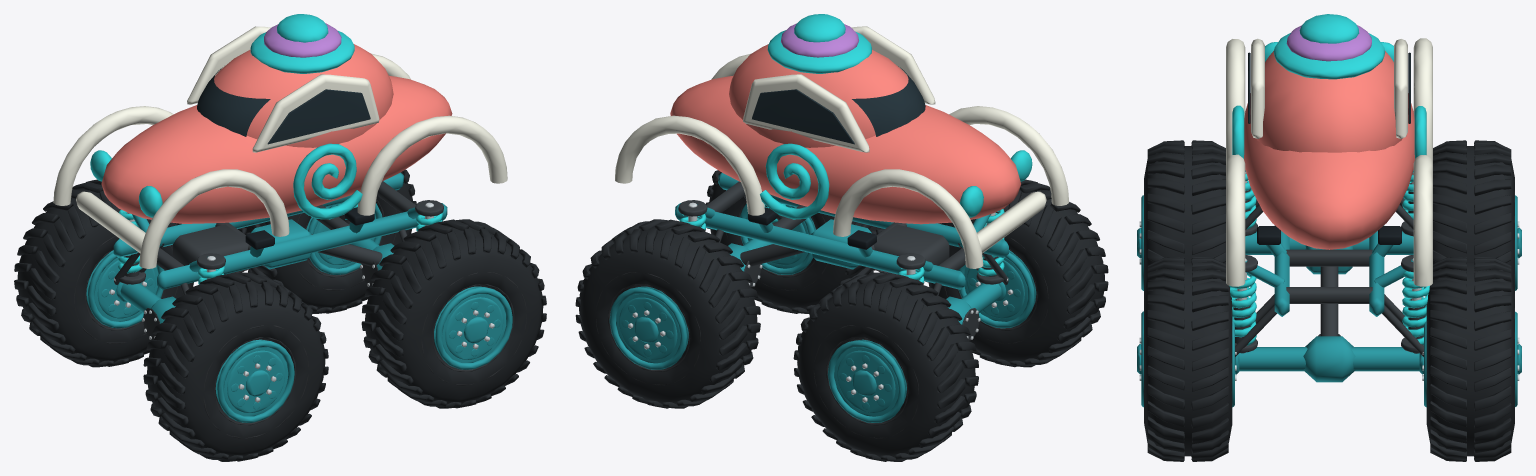
The model's file is CandyCrush.fbx.
The picture shows the model from 3 angles, left to right: view 1: azimuth 30°, elevation 25°; view 2: azimuth 150°, elevation 25°; view 3: azimuth 270°, elevation 25°; orthographic projection. The views are drawn at different scales.
Parts seen in each view (by area): view 1: CandyCrush_LOD0_sprung_body_Geometry, CandyCrush_LOD0_FL_Spin_Geometry, CandyCrush_LOD0_RL_Spin_Geometry, CandyCrush_LOD0_FR_Spin_Geometry, CandyCrush_LOD0_RR_Spin_Geometry, CandyCrush_LOD0_FRONT_axle_Geometry, CandyCrush_LOD0_Root_Geometry, CandyCrush_LOD0_REAR_axle_Geometry, CandyCrush_LOD0_FRONT_shock_-1_Geometry, CandyCrush_LOD0_REAR_shock_-1_Geometry, CandyCrush_LOD0_FRONT_shock_1_Geometry; view 2: CandyCrush_LOD0_sprung_body_Geometry, CandyCrush_LOD0_RR_Spin_Geometry, CandyCrush_LOD0_FR_Spin_Geometry, CandyCrush_LOD0_FL_Spin_Geometry, CandyCrush_LOD0_RL_Spin_Geometry, CandyCrush_LOD0_FRONT_axle_Geometry, CandyCrush_LOD0_Root_Geometry, CandyCrush_LOD0_REAR_axle_Geometry, CandyCrush_LOD0_FRONT_shock_-1_Geometry, CandyCrush_LOD0_FRONT_shock_1_Geometry, CandyCrush_LOD0_REAR_shock_1_Geometry; view 3: CandyCrush_LOD0_sprung_body_Geometry, CandyCrush_LOD0_RL_Spin_Geometry, CandyCrush_LOD0_RR_Spin_Geometry, CandyCrush_LOD0_FL_Spin_Geometry, CandyCrush_LOD0_FR_Spin_Geometry, CandyCrush_LOD0_REAR_axle_Geometry, CandyCrush_LOD0_Root_Geometry, CandyCrush_LOD0_REAR_shock_1_Geometry, CandyCrush_LOD0_REAR_shock_-1_Geometry, CandyCrush_LOD0_FRONT_axle_Geometry, CandyCrush_LOD0_FRONT_shock_-1_Geometry, CandyCrush_LOD0_FRONT_shock_1_Geometry.
Boxes of the visible parts, x1=… form: CandyCrush_LOD0_sprung_body_Geometry: x1=53, y1=14, x2=507, y2=289; CandyCrush_LOD0_FL_Spin_Geometry: x1=143, y1=272, x2=328, y2=461; CandyCrush_LOD0_RL_Spin_Geometry: x1=361, y1=219, x2=546, y2=408; CandyCrush_LOD0_FR_Spin_Geometry: x1=14, y1=179, x2=193, y2=367; CandyCrush_LOD0_RR_Spin_Geometry: x1=238, y1=169, x2=416, y2=313; CandyCrush_LOD0_FRONT_axle_Geometry: x1=120, y1=283, x2=175, y2=340; CandyCrush_LOD0_Root_Geometry: x1=114, y1=195, x2=407, y2=294; CandyCrush_LOD0_REAR_axle_Geometry: x1=350, y1=239, x2=394, y2=287; CandyCrush_LOD0_FRONT_shock_-1_Geometry: x1=197, y1=253, x2=225, y2=284; CandyCrush_LOD0_REAR_shock_-1_Geometry: x1=415, y1=200, x2=443, y2=231; CandyCrush_LOD0_FRONT_shock_1_Geometry: x1=118, y1=209, x2=145, y2=284; CandyCrush_LOD0_sprung_body_Geometry: x1=615, y1=14, x2=1069, y2=289; CandyCrush_LOD0_RR_Spin_Geometry: x1=575, y1=219, x2=760, y2=408; CandyCrush_LOD0_FR_Spin_Geometry: x1=793, y1=272, x2=978, y2=461; CandyCrush_LOD0_FL_Spin_Geometry: x1=925, y1=179, x2=1108, y2=367; CandyCrush_LOD0_RL_Spin_Geometry: x1=706, y1=170, x2=884, y2=313; CandyCrush_LOD0_FRONT_axle_Geometry: x1=946, y1=283, x2=1001, y2=340; CandyCrush_LOD0_Root_Geometry: x1=699, y1=195, x2=1008, y2=295; CandyCrush_LOD0_REAR_axle_Geometry: x1=728, y1=239, x2=772, y2=287; CandyCrush_LOD0_FRONT_shock_-1_Geometry: x1=976, y1=209, x2=1004, y2=284; CandyCrush_LOD0_FRONT_shock_1_Geometry: x1=896, y1=253, x2=925, y2=283; CandyCrush_LOD0_REAR_shock_1_Geometry: x1=678, y1=200, x2=707, y2=229; CandyCrush_LOD0_sprung_body_Geometry: x1=1226, y1=14, x2=1432, y2=316; CandyCrush_LOD0_RL_Spin_Geometry: x1=1137, y1=256, x2=1239, y2=461; CandyCrush_LOD0_RR_Spin_Geometry: x1=1419, y1=256, x2=1521, y2=461; CandyCrush_LOD0_FL_Spin_Geometry: x1=1137, y1=140, x2=1225, y2=293; CandyCrush_LOD0_FR_Spin_Geometry: x1=1424, y1=140, x2=1521, y2=292; CandyCrush_LOD0_REAR_axle_Geometry: x1=1239, y1=334, x2=1419, y2=382; CandyCrush_LOD0_Root_Geometry: x1=1235, y1=198, x2=1423, y2=356; CandyCrush_LOD0_REAR_shock_1_Geometry: x1=1401, y1=255, x2=1429, y2=352; CandyCrush_LOD0_REAR_shock_-1_Geometry: x1=1229, y1=254, x2=1257, y2=352; CandyCrush_LOD0_FRONT_axle_Geometry: x1=1245, y1=231, x2=1413, y2=254; CandyCrush_LOD0_FRONT_shock_-1_Geometry: x1=1245, y1=170, x2=1257, y2=235; CandyCrush_LOD0_FRONT_shock_1_Geometry: x1=1401, y1=170, x2=1413, y2=235.
Size of the model in its own units: 517 by 460 by 414.
